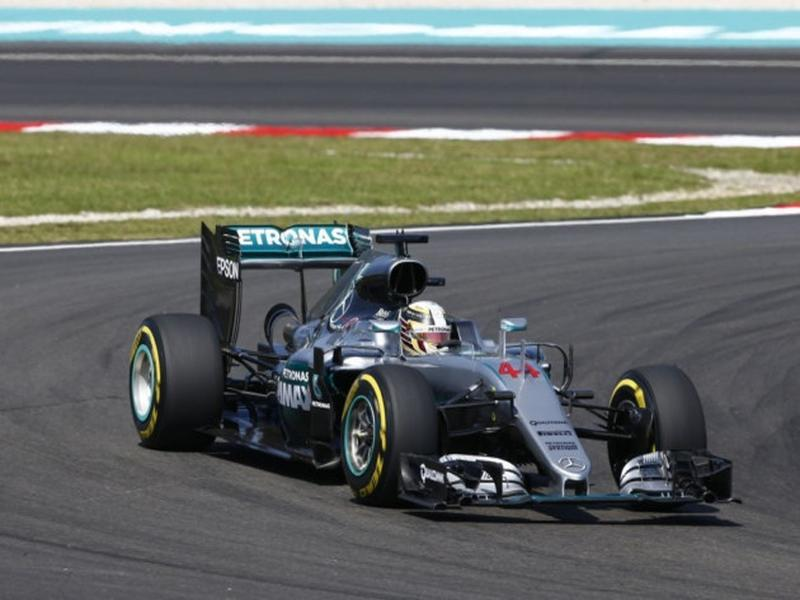f1: (134, 189, 773, 529)
